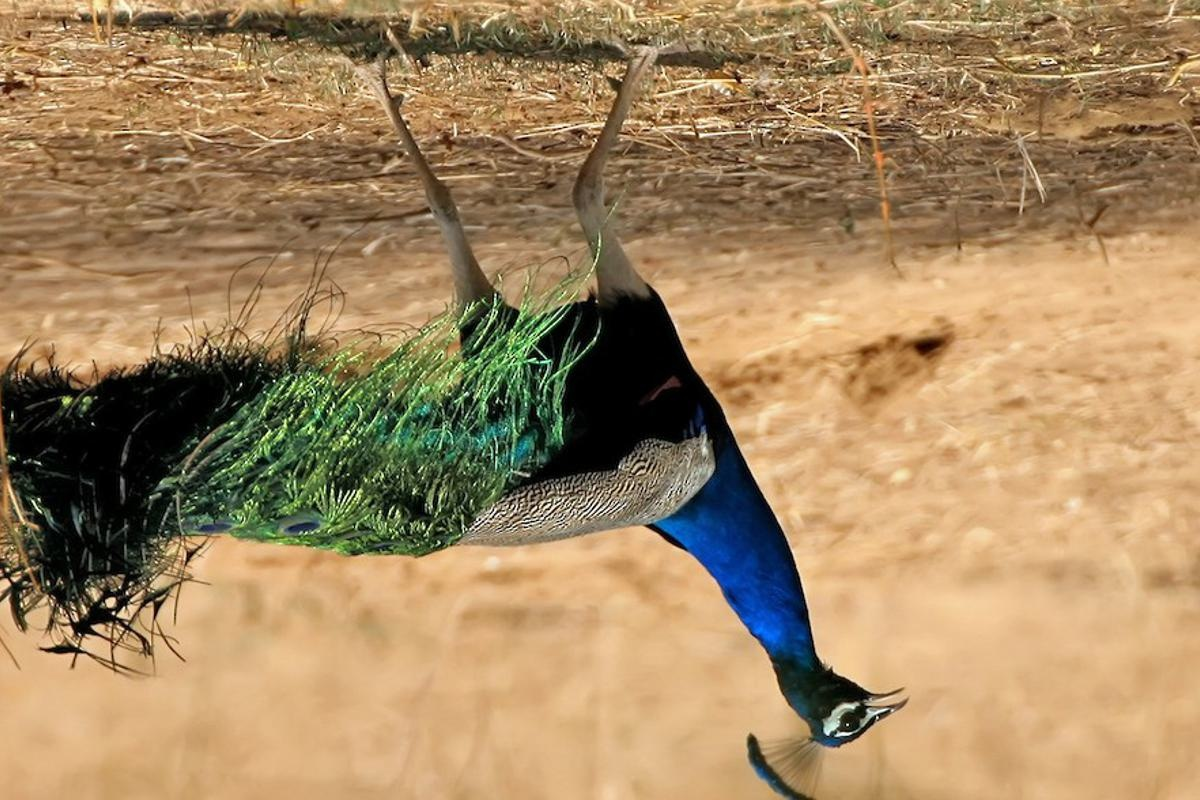peacock: (1, 124, 928, 792)
